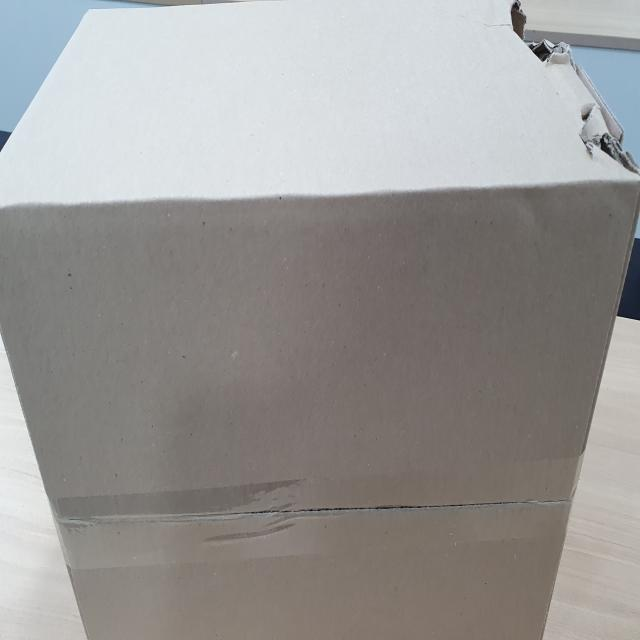hole: (571, 95, 640, 207), (505, 0, 571, 68)
